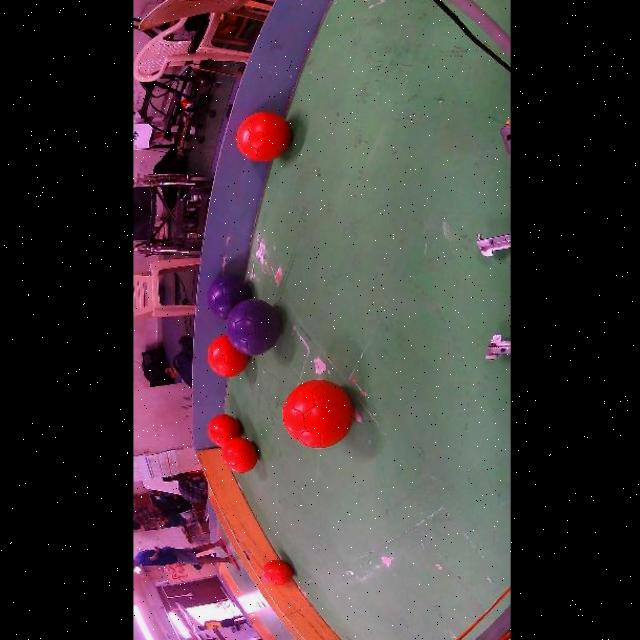P: (226, 298, 281, 356), (206, 275, 250, 319)
R: (282, 380, 353, 448), (236, 112, 290, 162), (206, 335, 248, 377), (220, 438, 257, 473), (207, 414, 240, 447), (261, 559, 292, 586)
